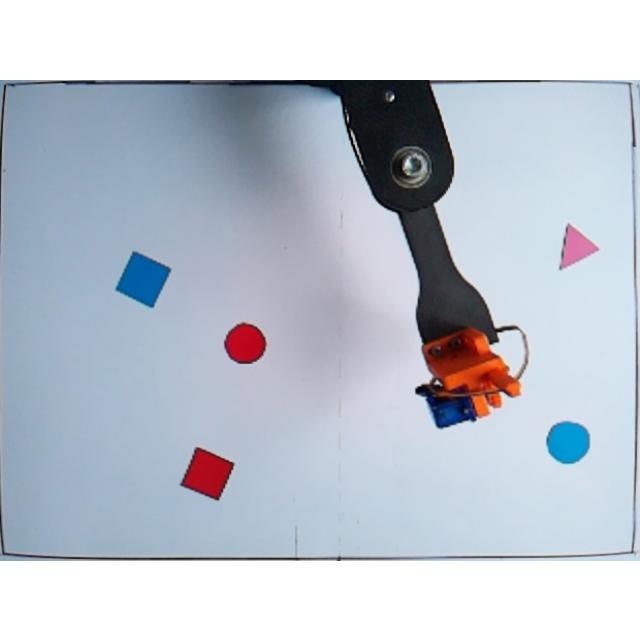blueCircle: (544, 416, 594, 464)
blueSquare: (115, 248, 175, 308)
pinkTriangle: (558, 220, 600, 270)
redCircle: (225, 320, 268, 364)
redSquare: (181, 443, 237, 502)
